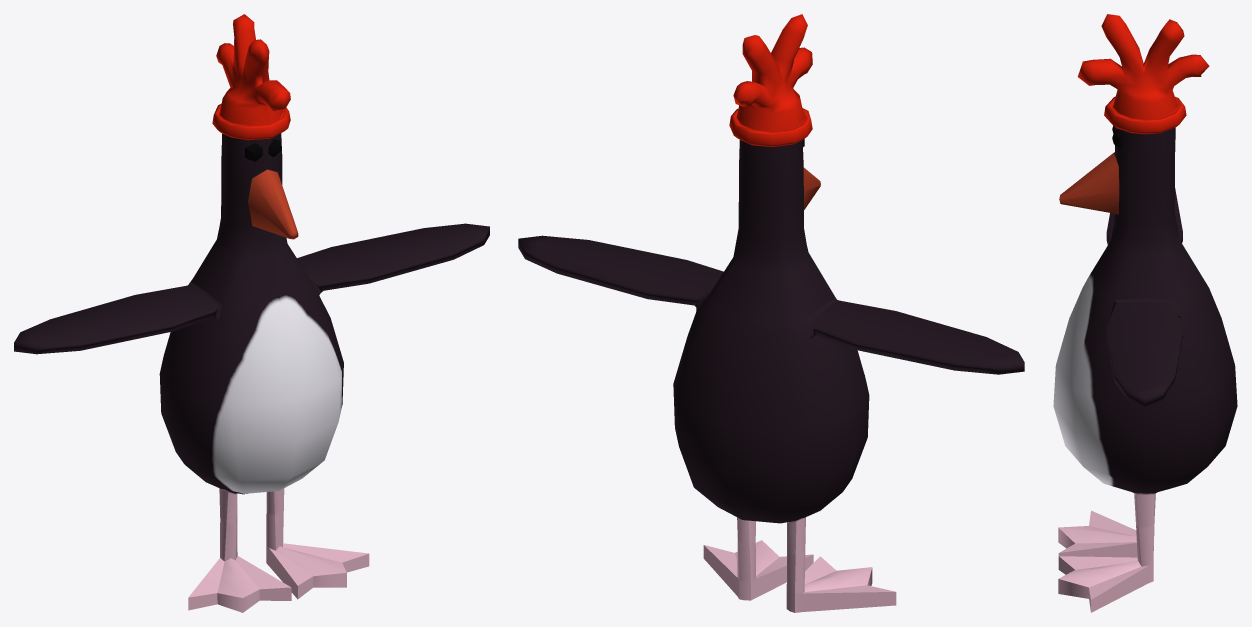
Rendered from feathers.fbx.
The picture shows the model from 3 angles, left to right: view 1: azimuth 30°, elevation 25°; view 2: azimuth 150°, elevation 25°; view 3: azimuth 270°, elevation 25°; orthographic projection. The views are drawn at different scales.
Visible parts, largest first — view 1: body1, hat1; view 2: body1, hat1; view 3: body1, hat1.
Boxes of the visible parts, <box> form: body1: <box>14,133,489,612</box>; hat1: <box>212,14,290,140</box>; body1: <box>518,140,1024,612</box>; hat1: <box>729,14,812,147</box>; body1: <box>1053,127,1237,612</box>; hat1: <box>1077,14,1209,134</box>.
Size of the model in its own units: 200 by 218 by 66.22.
